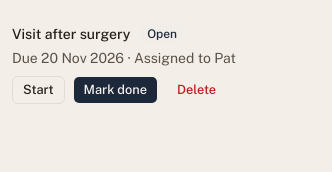
Test: FollowUpList › shows the action error
Click the button "Mark done": coordinates (115, 90) [73, 76, 158, 104]
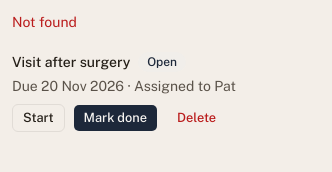
Check: the message reads "Not found", box [12, 14, 77, 30]
